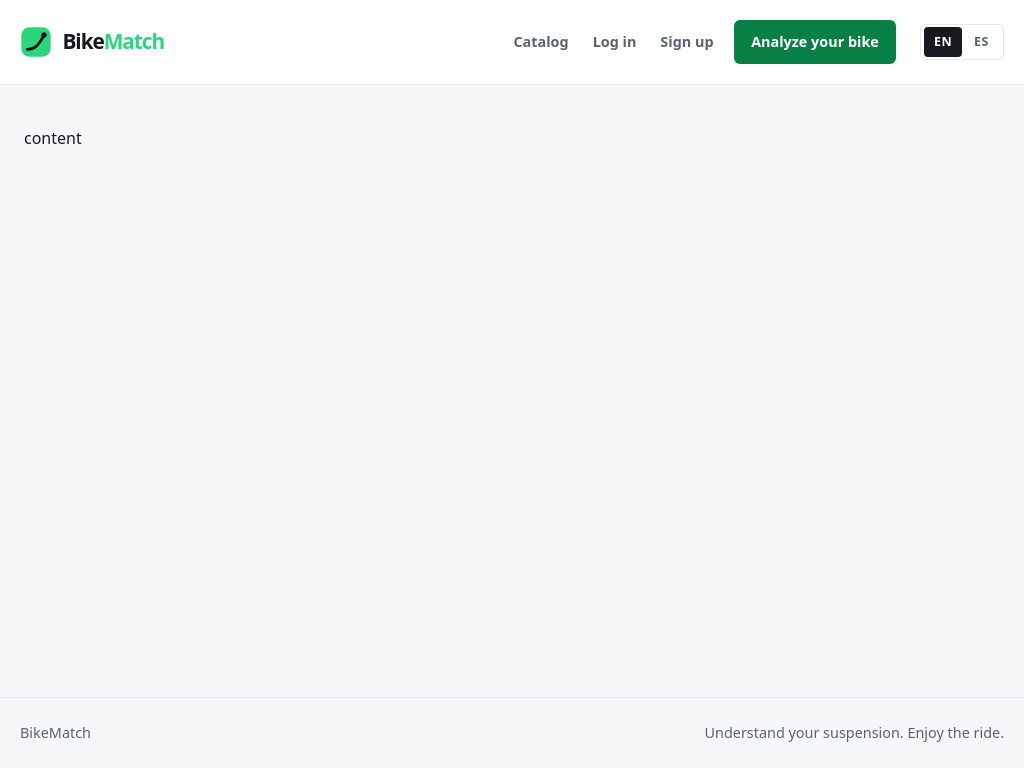
Scenario: LanguageSwitcher › switches the interface to Spanish and remembers the choice
This screenshot has width=1024, height=768.
Click the button with aria-label "Español" at (981,42), box [962,27,1001,57]
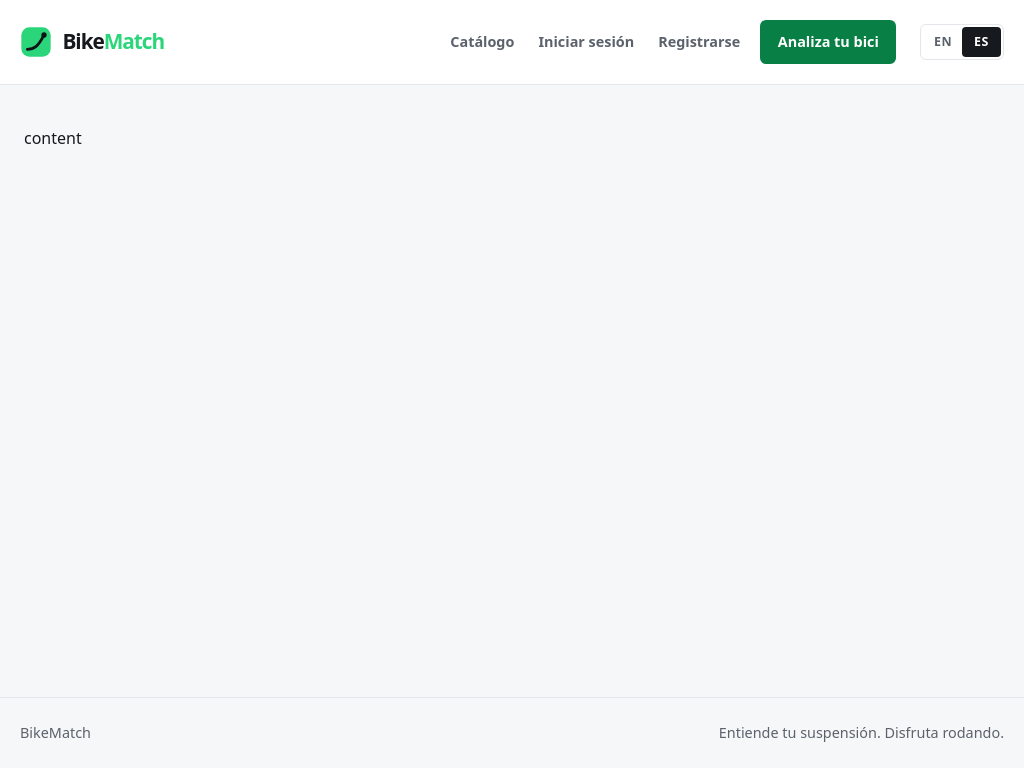
Check: the link "Catálogo" is shown, box [450,32,514,51]
